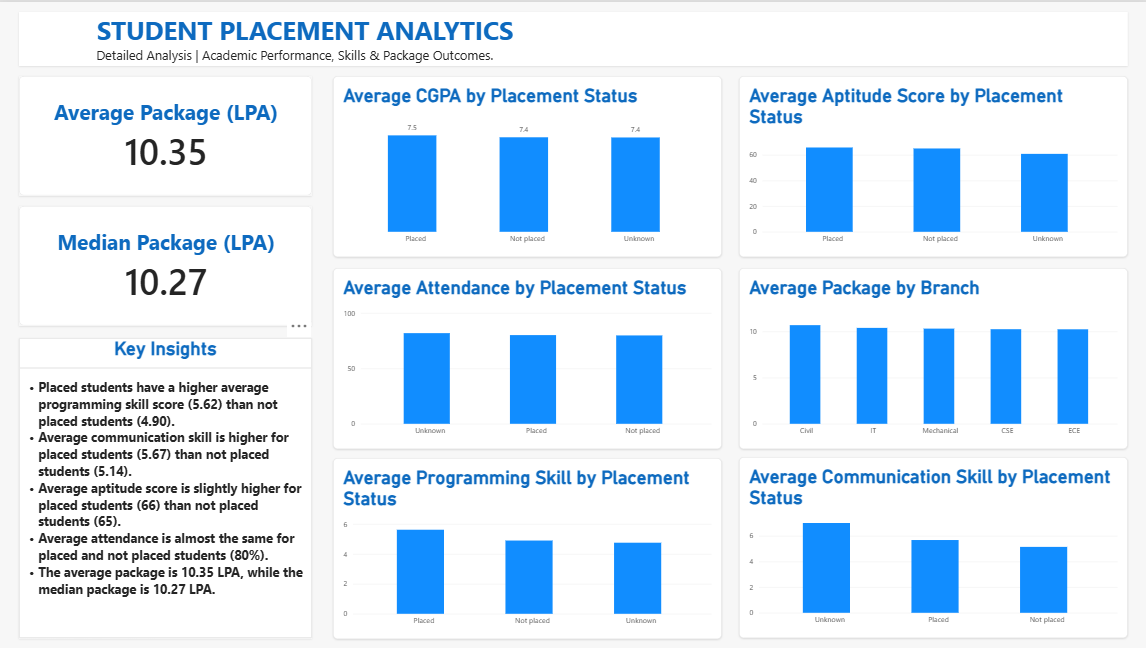

What the dashboard file says about the page in this screenshot:
{"tool":"powerbi","page":{"name":"Page 2","canvas":[1920,1080],"ordinal":1},"visuals":[{"type":"cardVisual","fields":{"Data":["Divide(Avg(Student_clean_data.Package_LPA), ScopedEval(Avg(Student_clean_data.Package_LPA), []))"]},"box":[36.3,123.7,488.2,199.6],"z":0},{"type":"cardVisual","fields":{"Data":["Median(Student_clean_data.Package_LPA)"]},"box":[36.3,339.8,488.2,199.6],"z":1000},{"type":"textbox","box":[36.7,16.7,1848.3,90],"z":2000},{"type":"clusteredColumnChart","title":"Average CGPA by Placement Status","fields":{"Category":["Student_clean_data.Placement_Status"],"Y":["Avg(Student_clean_data.CGPA)"]},"box":[560,123.3,648.3,301.7],"z":3000},{"type":"clusteredColumnChart","title":"Average Aptitude Score by Placement Status","fields":{"Category":["Student_clean_data.Placement_Status"],"Y":["Avg(Student_clean_data.Aptitude_Score)"]},"box":[1236.7,123.3,648.3,301.7],"z":4000},{"type":"clusteredColumnChart","title":"Average Programming Skill by Placement Status","fields":{"Category":["Student_clean_data.Placement_Status"],"Y":["Avg(Student_clean_data.Programming_Skill)"]},"box":[560,760,648.3,301.7],"z":5000},{"type":"clusteredColumnChart","title":"Average Attendance by Placement Status","fields":{"Category":["Student_clean_data.Placement_Status"],"Y":["Avg(Student_clean_data.Attendance)"]},"box":[560,443.3,648.3,301.7],"z":6000},{"type":"clusteredColumnChart","title":"Average Package by Branch","fields":{"Category":["Student_clean_data.Branch"],"Y":["Avg(Student_clean_data.Package_LPA)"]},"box":[1236.7,443.3,648.3,301.7],"z":7000},{"type":"textbox","title":"     Key Insights","box":[36.3,559.2,488.2,501.4],"z":8000},{"type":"clusteredColumnChart","title":"Average Communication Skill by Placement Status","fields":{"Category":["Student_clean_data.Placement_Status"],"Y":["Avg(Student_clean_data.Communication_Skill)"]},"box":[1236.7,758.3,648.3,301.7],"z":8001}]}

Visuals, with their boxes in screenshot pixels (x1, y1, x2, y2), scaled from the page's 1920x1080 canvas onto the 1146x648 screenshot:
cardVisual - Divide(Avg(Student_clean_data.Package_LPA), ScopedEval(Avg(Student_clean_data.Package_LPA), [])): 22, 74, 313, 194
cardVisual - Median(Student_clean_data.Package_LPA): 22, 204, 313, 324
textbox: 22, 10, 1125, 64
"Average CGPA by Placement Status" clusteredColumnChart: 334, 74, 721, 255
"Average Aptitude Score by Placement Status" clusteredColumnChart: 738, 74, 1125, 255
"Average Programming Skill by Placement Status" clusteredColumnChart: 334, 456, 721, 637
"Average Attendance by Placement Status" clusteredColumnChart: 334, 266, 721, 447
"Average Package by Branch" clusteredColumnChart: 738, 266, 1125, 447
"     Key Insights" textbox: 22, 336, 313, 636
"Average Communication Skill by Placement Status" clusteredColumnChart: 738, 455, 1125, 636
